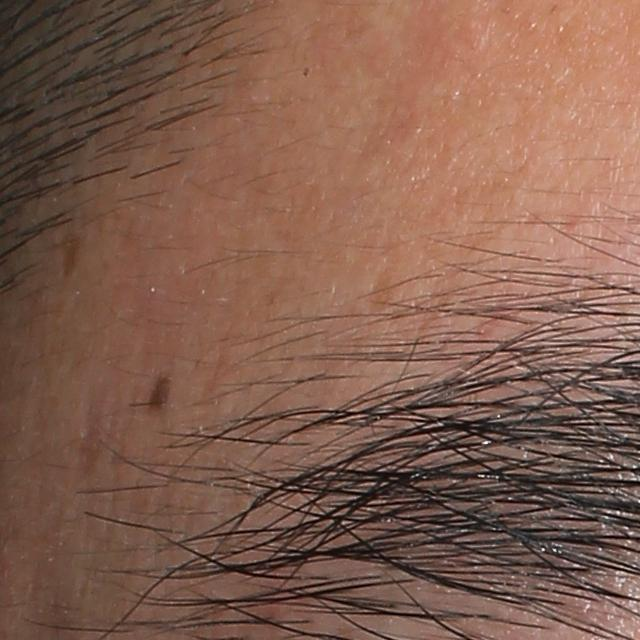nevus: (145, 374, 170, 407)
